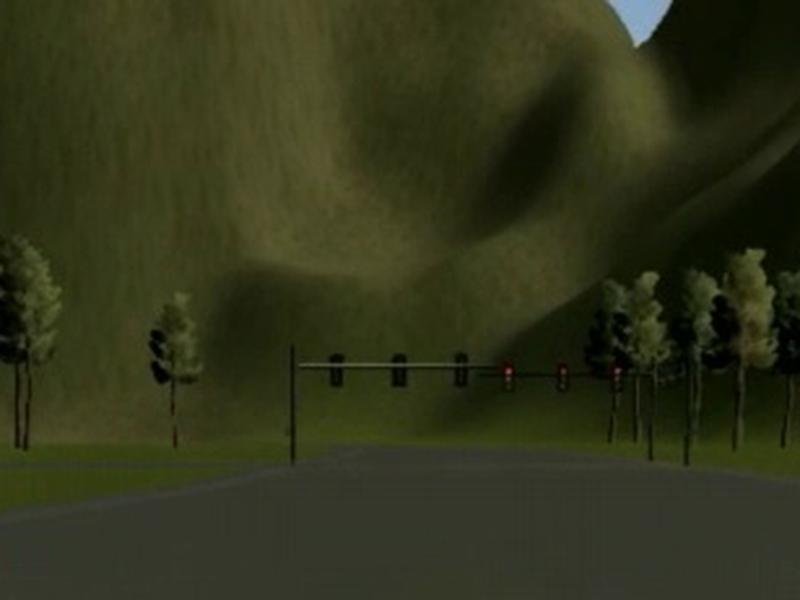Red: (557, 366, 569, 393), (503, 367, 515, 391), (611, 367, 622, 393)
